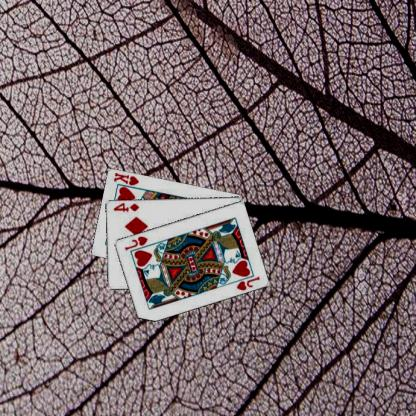4D: (113, 200, 142, 213)
JH: (124, 233, 150, 252), (236, 274, 262, 291)
KH: (113, 170, 142, 186)
